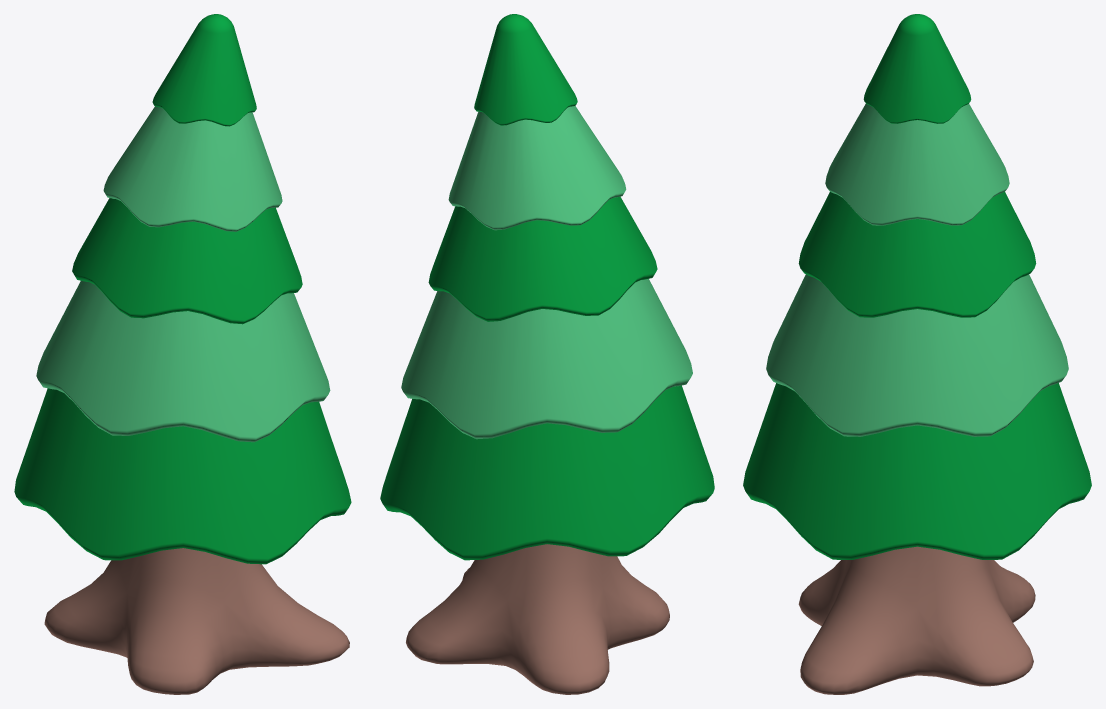
File: Town_3_Tree_1.glb
The picture shows the model from 3 angles, left to right: view 1: azimuth 30°, elevation 25°; view 2: azimuth 150°, elevation 25°; view 3: azimuth 270°, elevation 25°; orthographic projection. The views are drawn at different scales.
Parts seen in each view (by area): view 1: Town_3_Tree_1; view 2: Town_3_Tree_1; view 3: Town_3_Tree_1.
Part boxes in pixels (left/top/right/bottom): Town_3_Tree_1: left=14, top=14, right=351, bottom=694; Town_3_Tree_1: left=380, top=14, right=714, bottom=694; Town_3_Tree_1: left=743, top=14, right=1091, bottom=694.
Bounding box in the file's own units: 1.81 × 3.82 × 1.88.
Materials: 1 (1 with a texture image).
